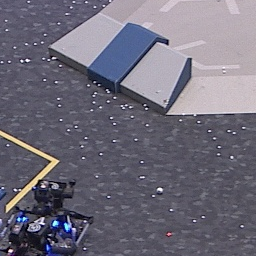Blue: (22, 214, 59, 229)
Robot: (1, 174, 94, 254)
